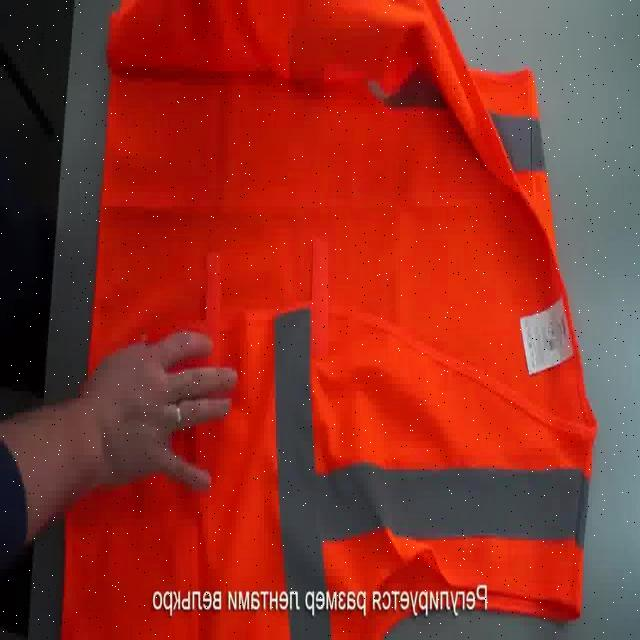Vest: (94, 15, 597, 640)
